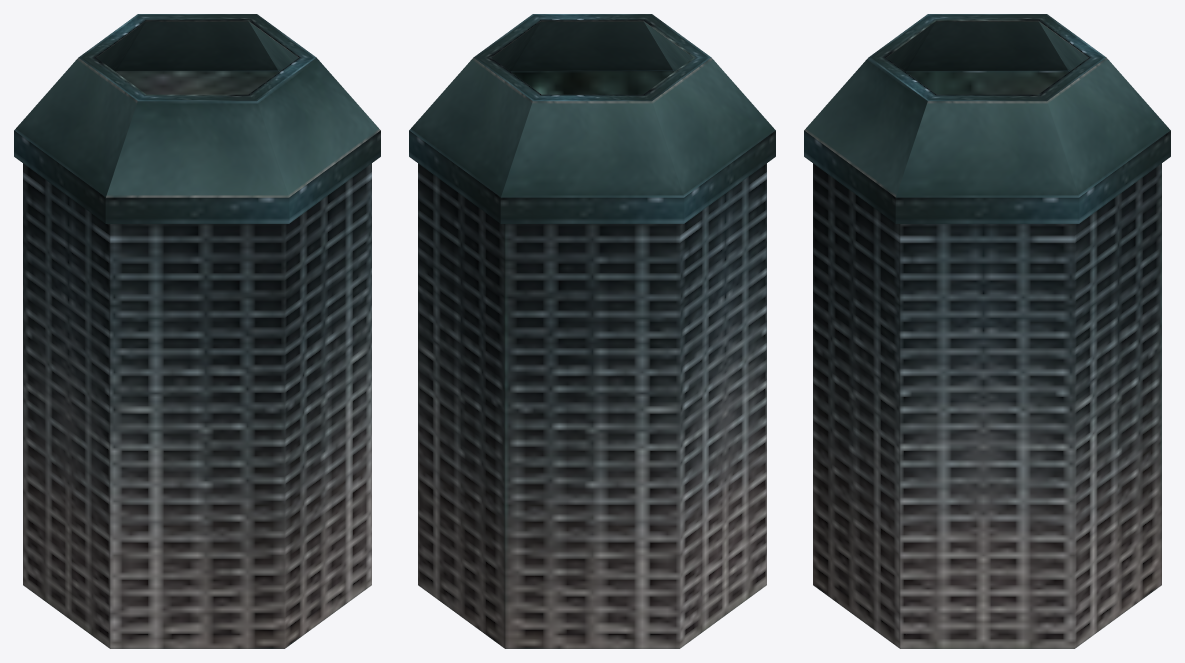
Rendered from TrashBinOutdoor01.obj.
3 renders of one model, left to right at view 1: azimuth 30°, elevation 25°; view 2: azimuth 150°, elevation 25°; view 3: azimuth 270°, elevation 25°, orthographic.
Visible parts, largest first — view 1: TrashBinOutdoor01; view 2: TrashBinOutdoor01; view 3: TrashBinOutdoor01.
Boxes of the visible parts, x1,y1,x2,y2 form: TrashBinOutdoor01: (14,14,380,648); TrashBinOutdoor01: (409,14,775,648); TrashBinOutdoor01: (804,14,1170,648).
Bounding box in the file's own units: 0.8184 × 1.5 × 0.945.
